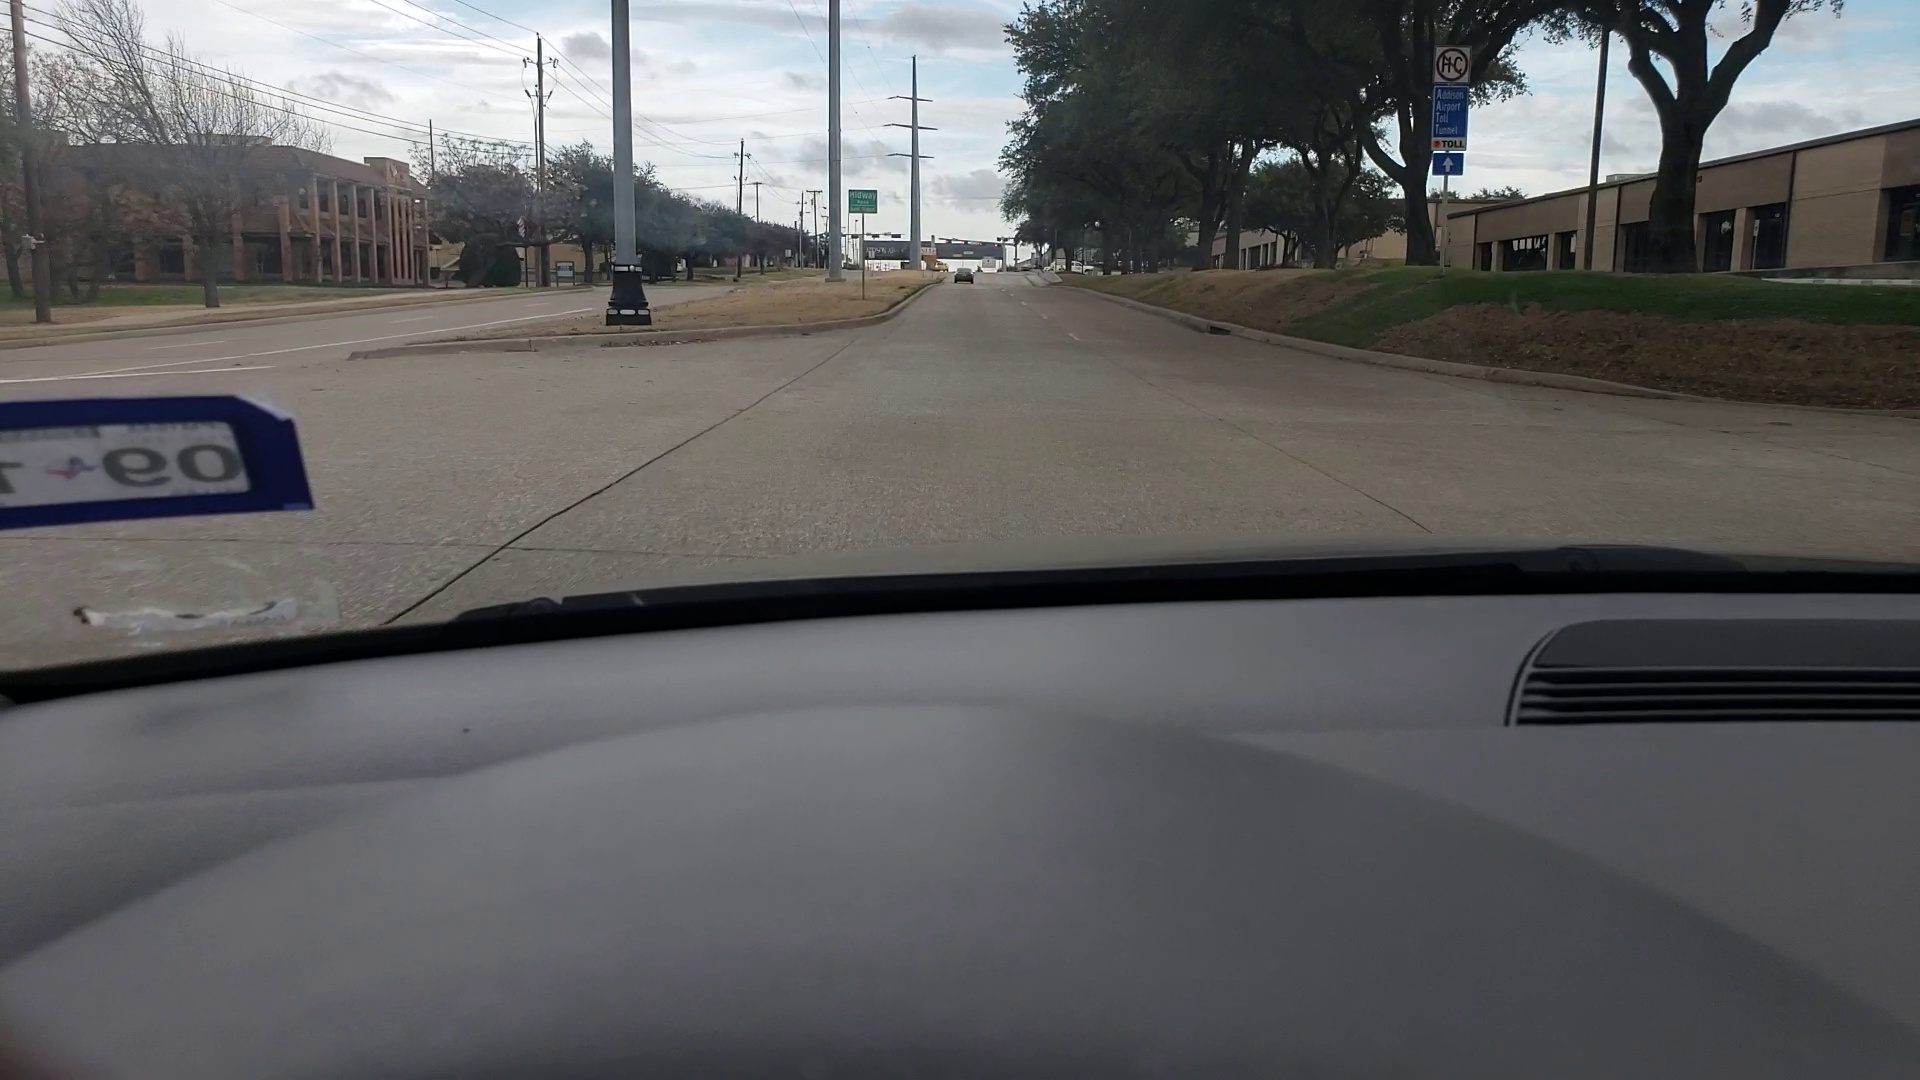car: (953, 266, 975, 286)
traffic light: (959, 240, 971, 245), (994, 241, 1002, 247), (978, 241, 986, 245)
